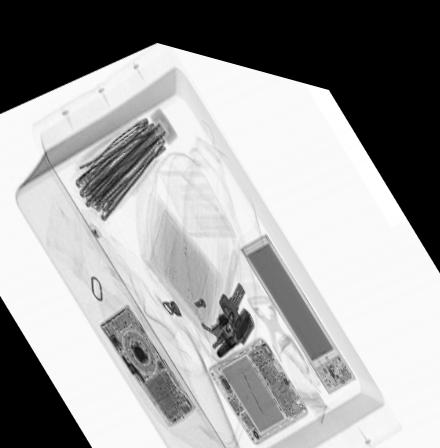Powerbank: (238, 218, 357, 374)
